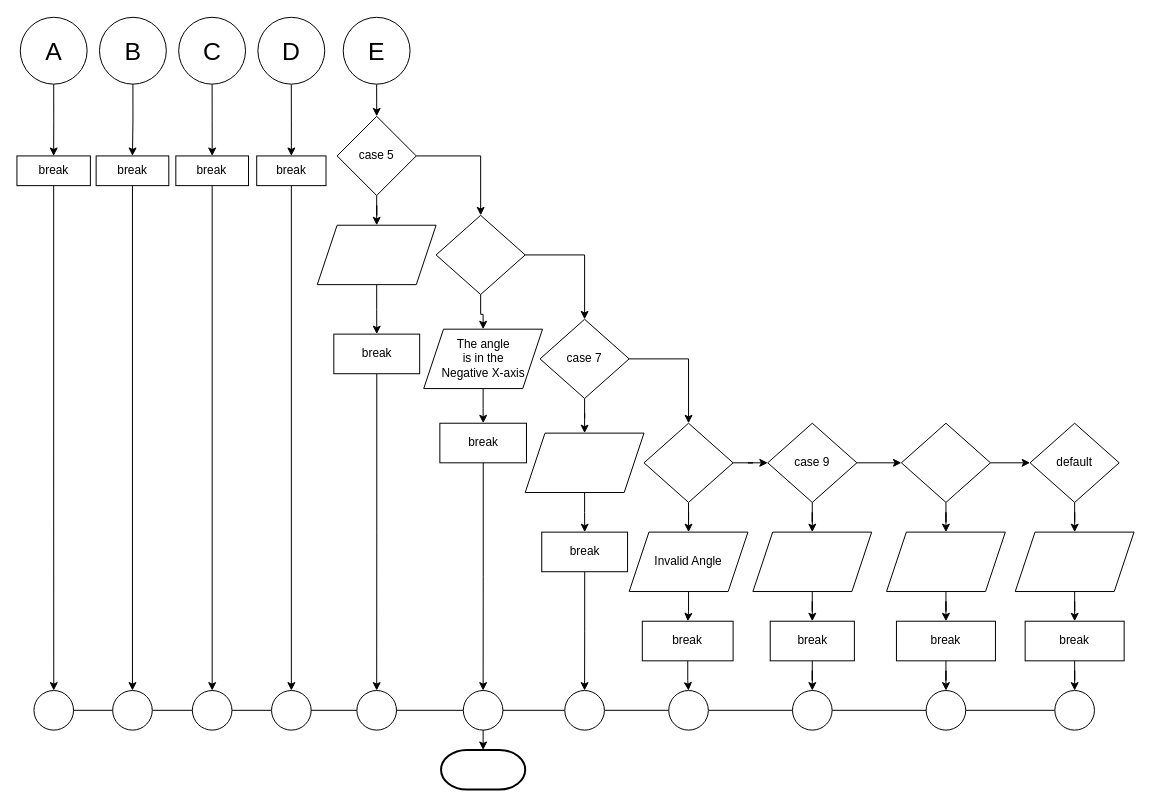
The diagram is 1152 pixels wide and 808 high, and some of its shapes have lost their labels. The shapes that lost their labels are listed below. From the top down, each one's box as (x1, y1, x2, y2) in pixels, then its label:
(316, 224, 436, 285): The angle is in the Positive Y-axis
(435, 214, 525, 295): case 6
(524, 432, 644, 493): The angle is in the Negative Y-axis
(643, 422, 733, 502): case 8
(900, 422, 990, 502): case 0
(752, 531, 872, 592): Please enter a positive number
(886, 531, 1005, 592): The angle is on the X-axis
(1014, 531, 1134, 592): Unexpected Case
(440, 748, 526, 790): Return
